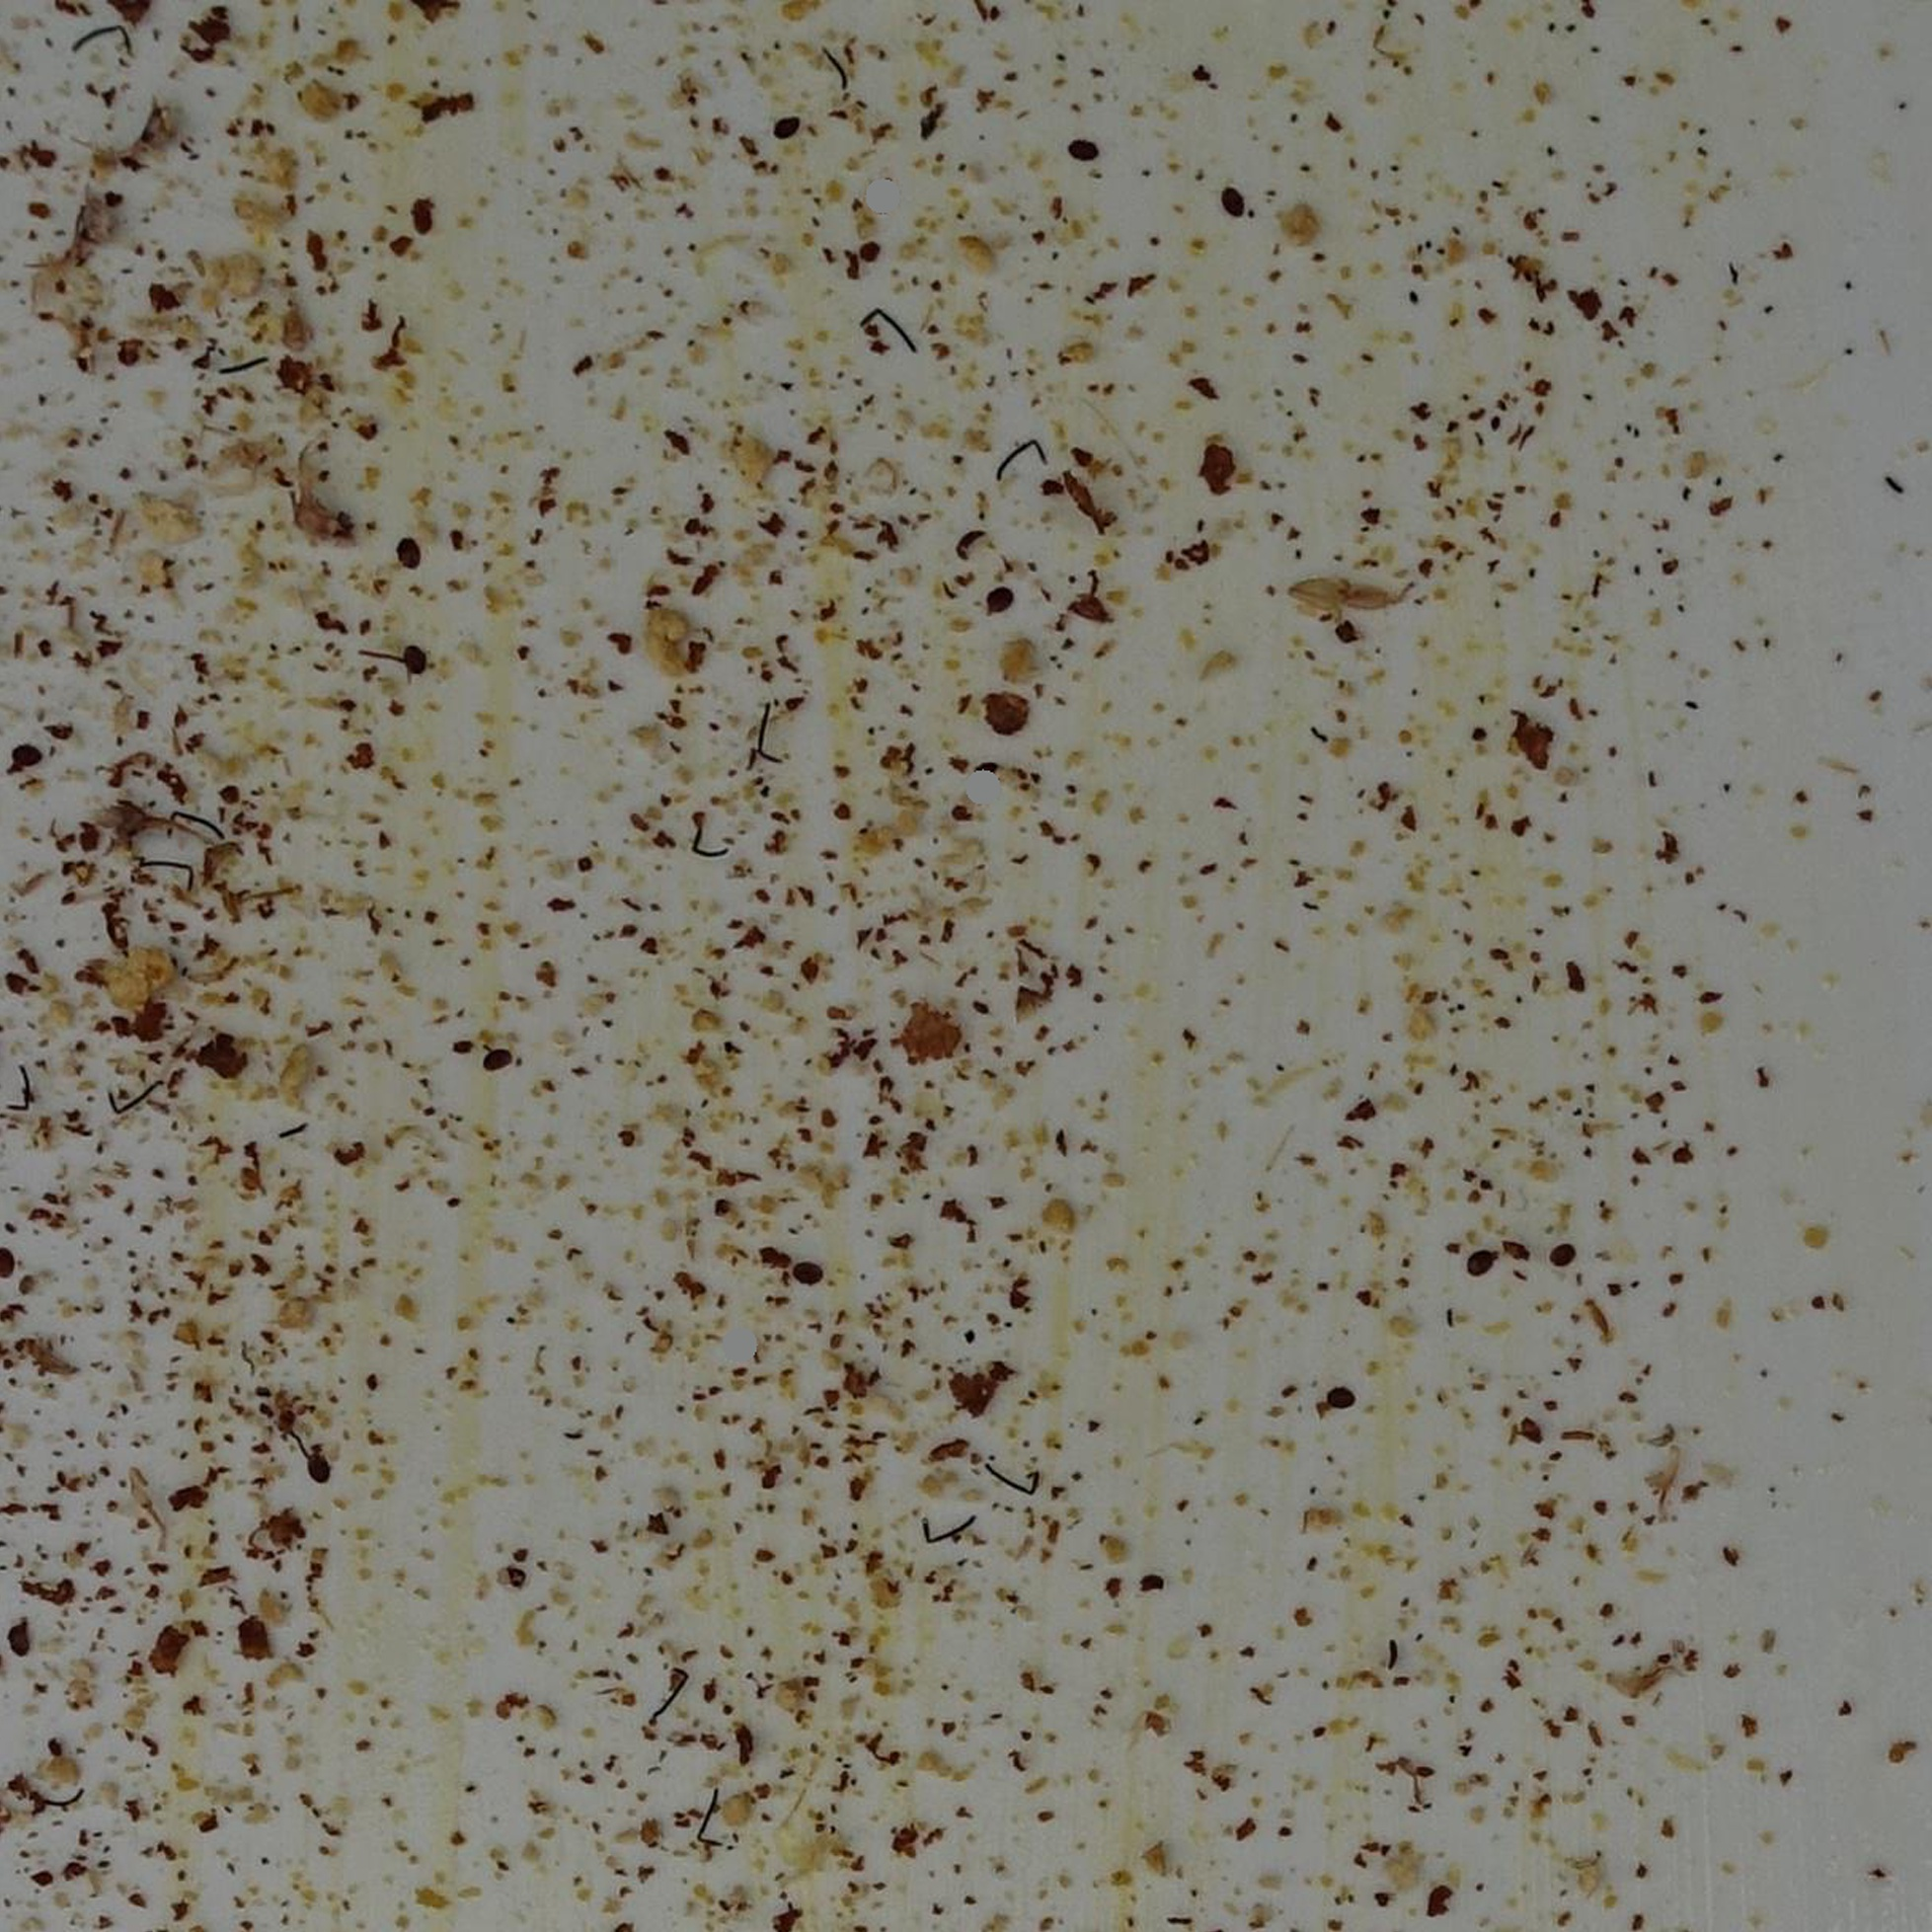Varroa: (14, 743, 42, 771), (7, 1629, 34, 1656), (1072, 136, 1095, 159), (977, 759, 1000, 782), (403, 649, 425, 674), (775, 117, 798, 138), (1329, 1389, 1352, 1410), (398, 538, 419, 561), (485, 1049, 506, 1072), (794, 1260, 816, 1283), (1552, 1244, 1571, 1267), (1221, 186, 1240, 209), (985, 594, 998, 609), (313, 1458, 327, 1470), (1474, 1253, 1486, 1265), (1000, 593, 1010, 605)
